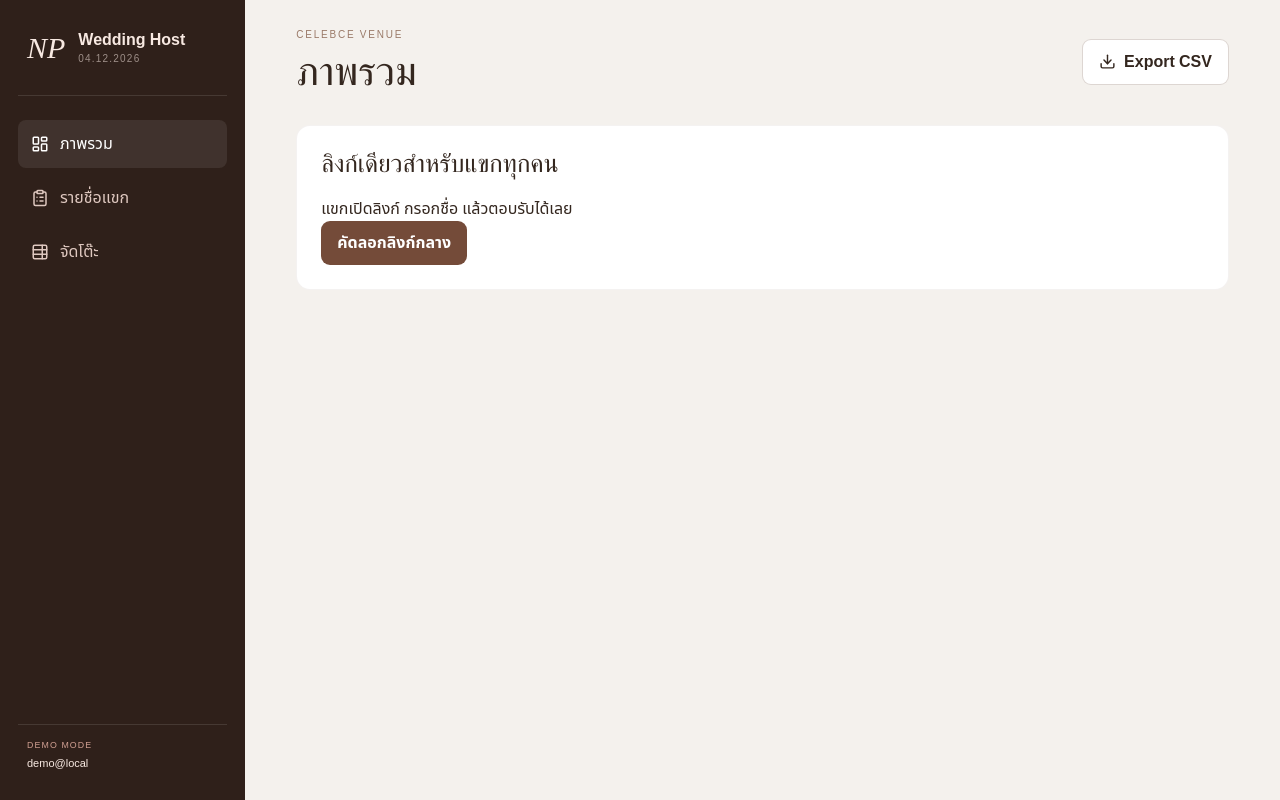
Test case: HostDashboard guest and table workflows › shows current maybe and rejected reasons directly in the guest table
The width and height of the screenshot is (1280, 800).
Click the button "รายชื่อแขก": click(122, 198) [18,174,227,222]
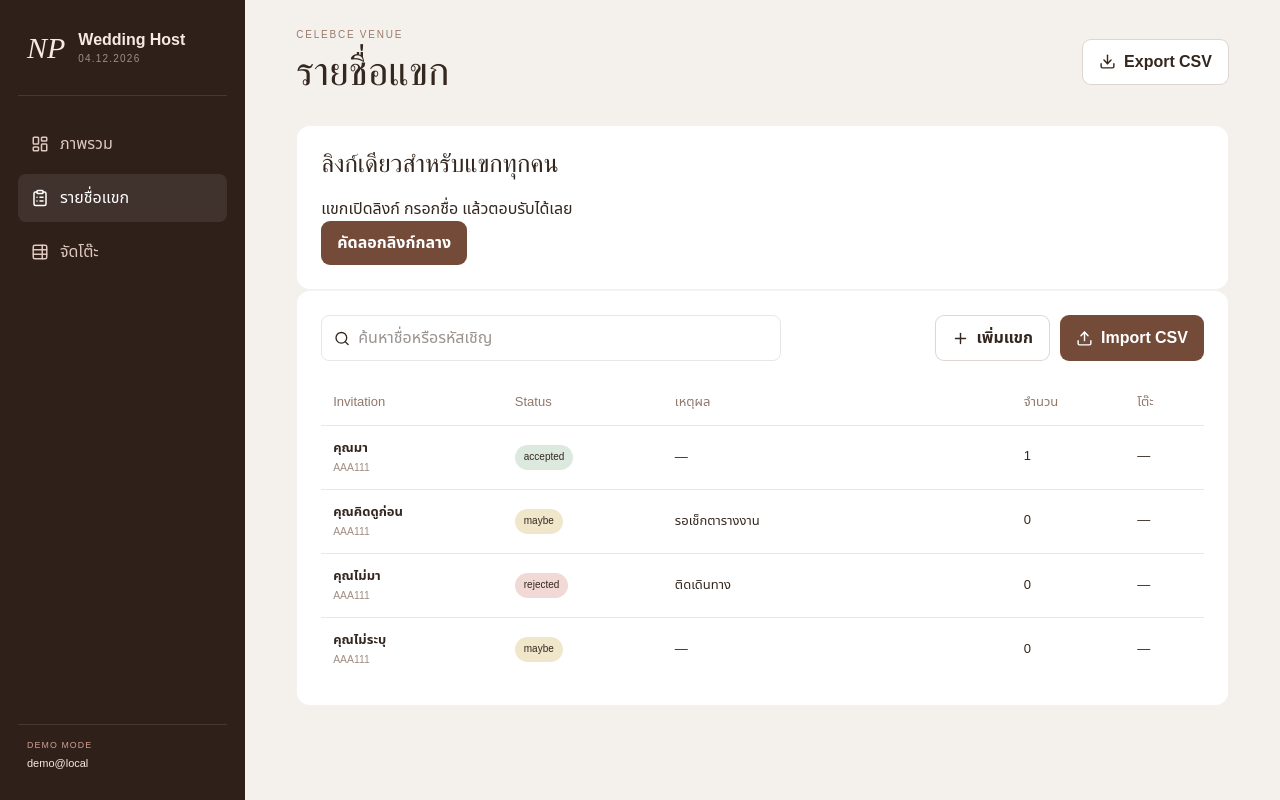
Expected: the column heading "เหตุผล" is shown, [663,381,1012,425]
Expected: the cell "รอเช็กตารางงาน" is shown, [663,489,1012,553]
Expected: the cell "ติดเดินทาง" is shown, [663,553,1012,617]
